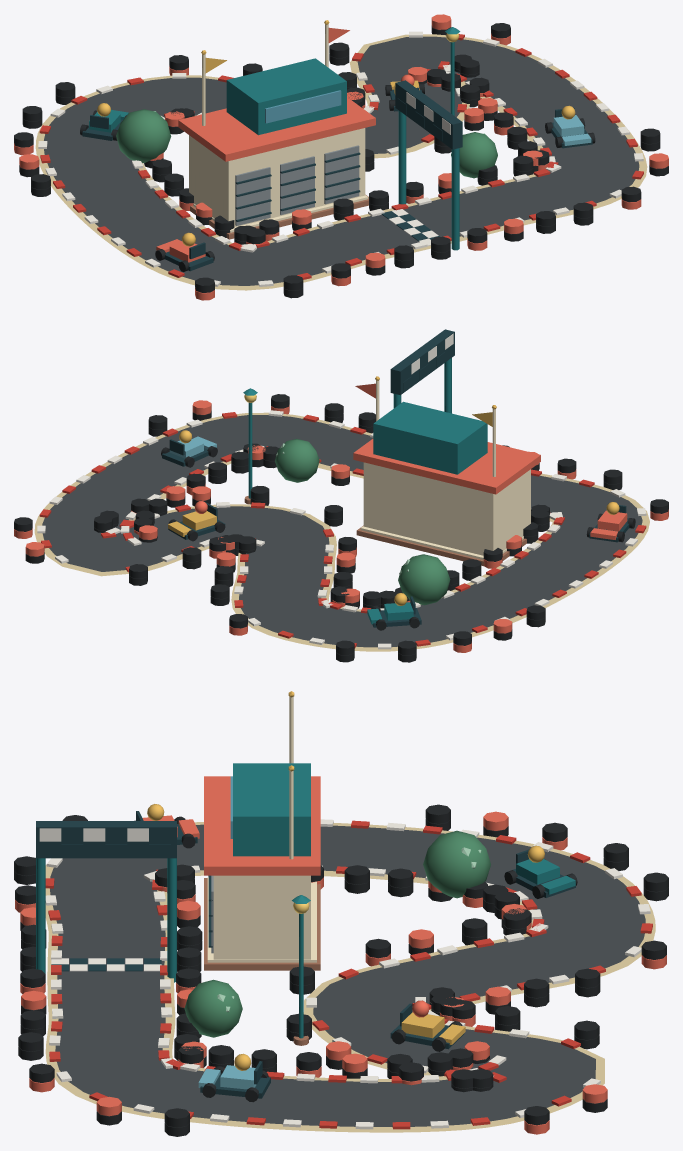
The model's file is ride_gokarts.glb.
The picture shows the model from 3 angles, top to bottom: view 1: azimuth 30°, elevation 25°; view 2: azimuth 150°, elevation 25°; view 3: azimuth 270°, elevation 25°; orthographic projection. The views are drawn at different scales.
Visible parts, largest first — view 1: ride_gokarts; view 2: ride_gokarts; view 3: ride_gokarts.
Boxes of the visible parts, left/top/right/bottom form: ride_gokarts: left=14, top=14, right=668, bottom=300; ride_gokarts: left=14, top=329, right=668, bottom=662; ride_gokarts: left=14, top=691, right=668, bottom=1136.
Size of the model in its own units: 15.27 by 4.52 by 13.45.
